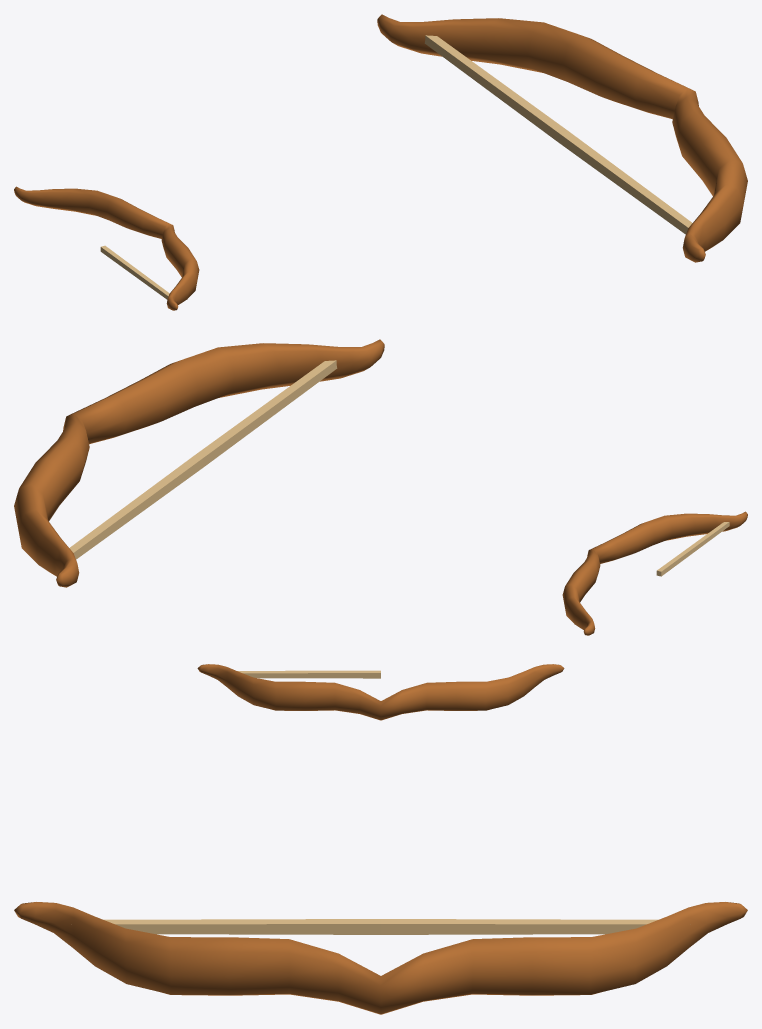
The model's file is Bow.fbx.
The picture shows the model from 3 angles, top to bottom: view 1: azimuth 30°, elevation 25°; view 2: azimuth 150°, elevation 25°; view 3: azimuth 270°, elevation 25°; orthographic projection. The views are drawn at different scales.
Visible parts, largest first — view 1: Long bow.001, Long bow, String.001, String; view 2: Long bow.001, Long bow, String.001, String; view 3: Long bow.001, Long bow, String.001, String.
Boxes of the visible parts, x1,y1,x2,y2 form: Long bow.001: [377, 14, 747, 262]; Long bow: [14, 186, 199, 310]; String.001: [424, 35, 692, 234]; String: [100, 245, 169, 299]; Long bow.001: [14, 339, 384, 587]; Long bow: [562, 511, 747, 635]; String.001: [69, 360, 337, 559]; String: [656, 522, 729, 576]; Long bow.001: [14, 902, 747, 1014]; Long bow: [197, 664, 564, 720]; String.001: [71, 919, 690, 934]; String: [237, 670, 380, 678].
Bounding box in the file's own units: 653 × 58.86 × 610.
